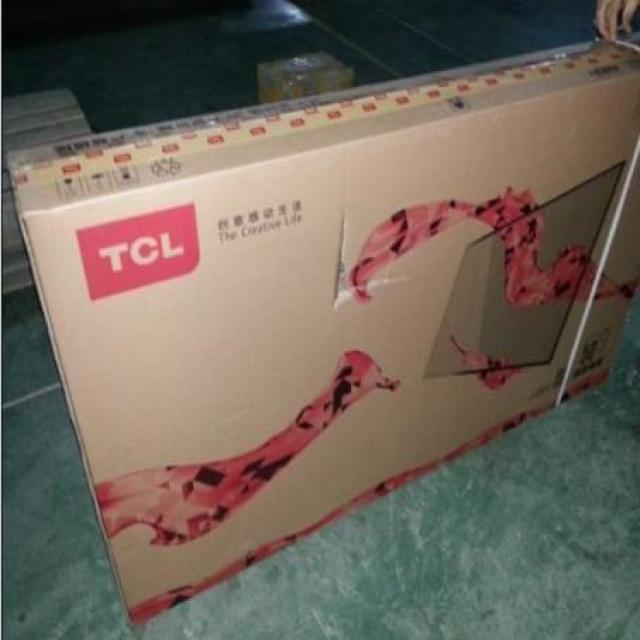cardboard: (3, 41, 640, 624)
